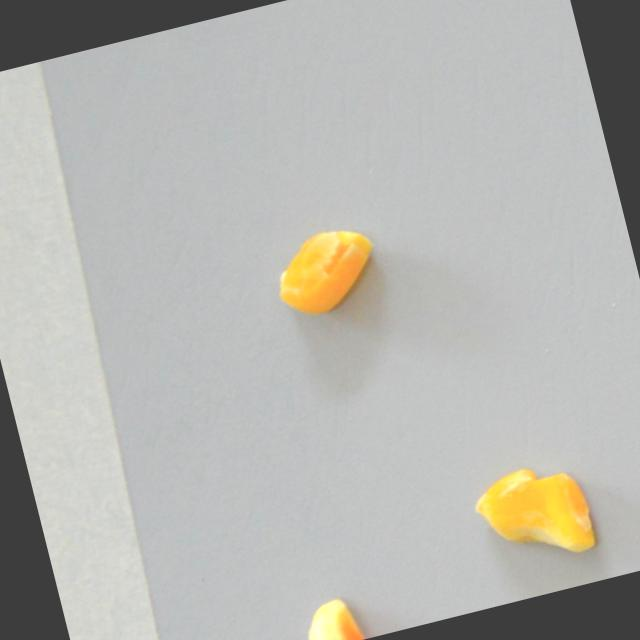pelicula: (466, 449, 604, 574), (263, 215, 390, 321), (295, 591, 369, 640)
